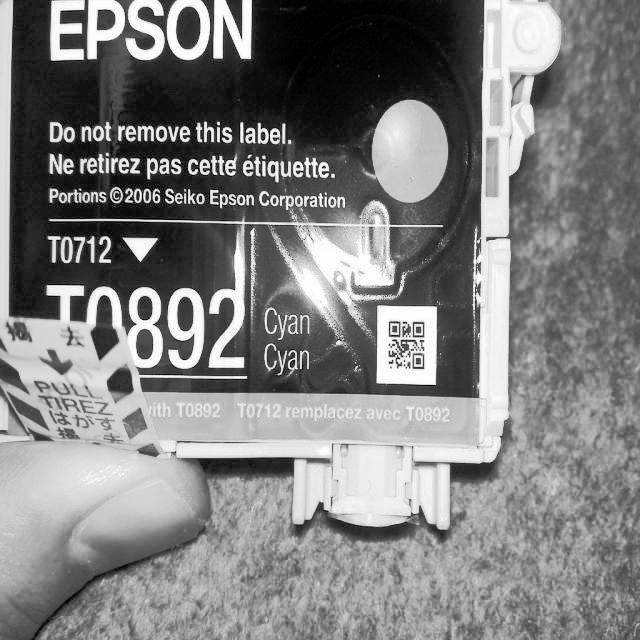qr_code: (389, 321, 424, 368)
